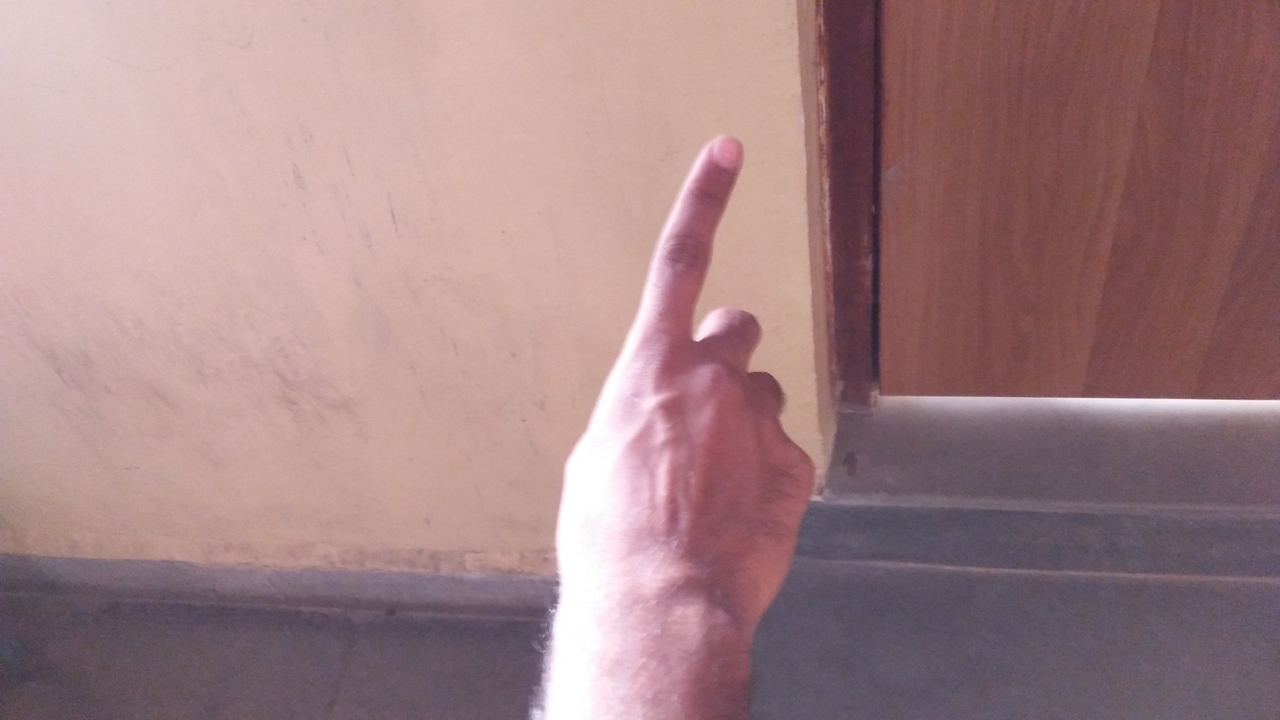fingertip: (690, 128, 748, 182)
